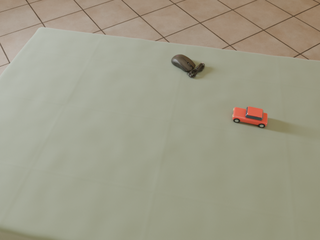mouse: (171, 55, 205, 78)
toy_car: (232, 107, 267, 128)
